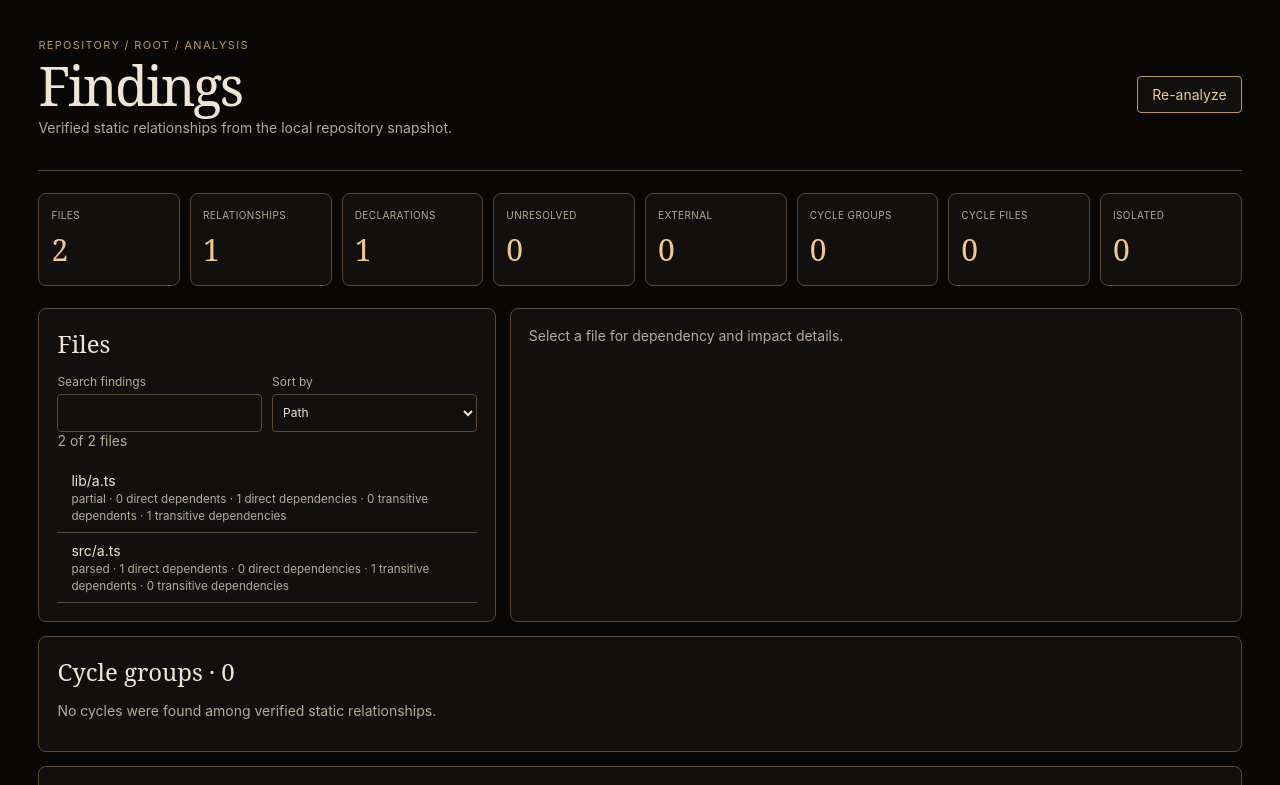
it: drops old metrics when analysis succeeds but fresh insights fail
This screenshot has width=1280, height=785.
Check: the text "lib/a.ts" is shown, box [71,472,116,489]
Click the button "Re-analyze": (1189, 94) [1137,76,1242,112]
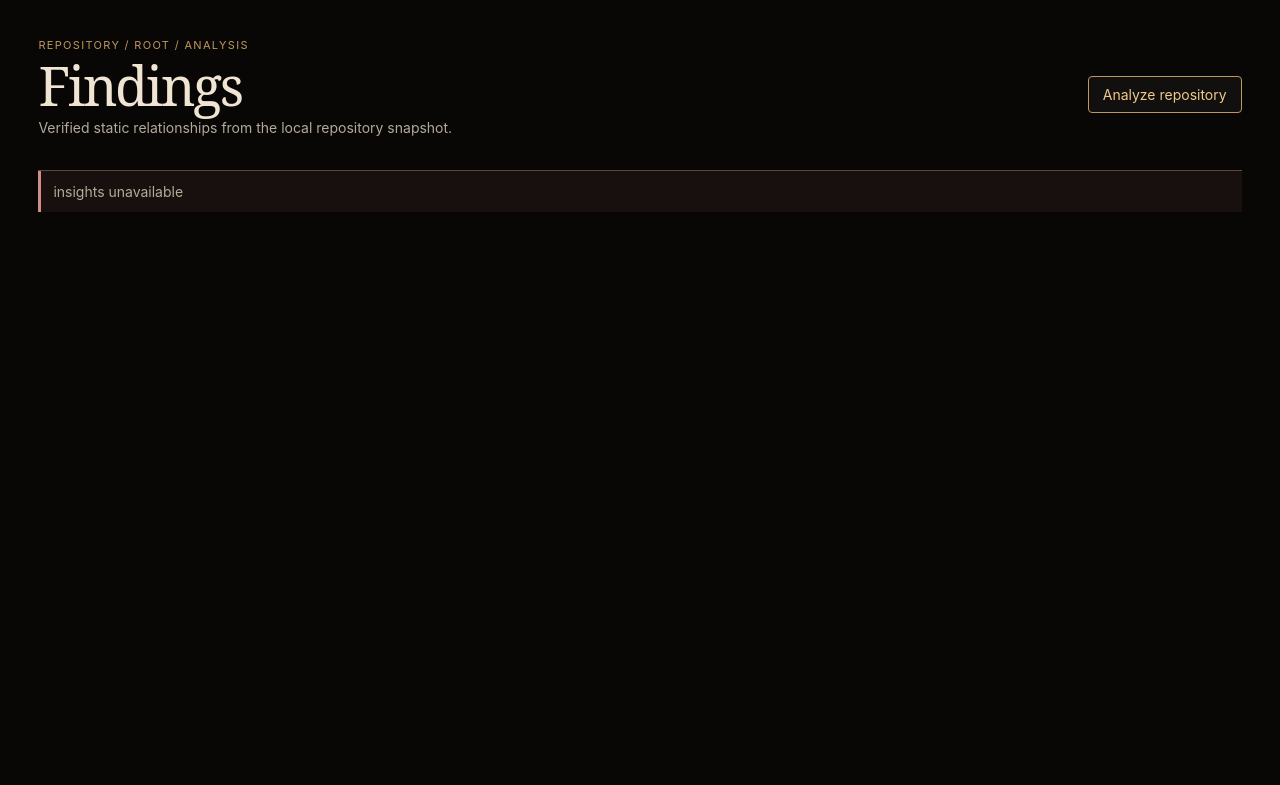
Check: the button "lib/a.ts" is gone
